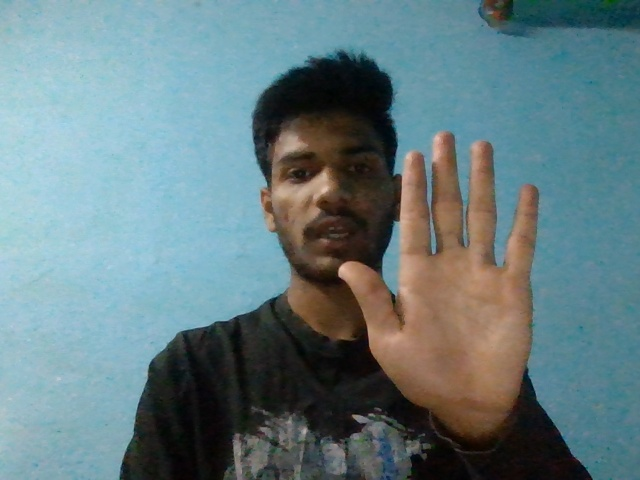Hello: (336, 130, 541, 412)
